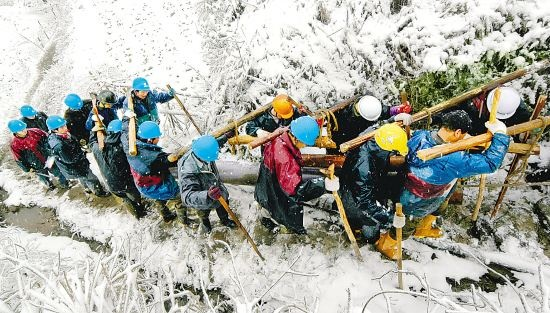blue: (190, 133, 220, 172), (287, 115, 319, 151), (135, 118, 162, 149), (44, 114, 69, 138), (130, 74, 150, 101), (6, 117, 28, 140), (93, 91, 115, 113), (63, 92, 83, 114), (104, 117, 123, 140), (18, 102, 36, 122)
none: (436, 108, 470, 148)
white: (484, 82, 520, 121), (351, 93, 380, 125)
yellow: (368, 124, 409, 163), (267, 96, 291, 123)
